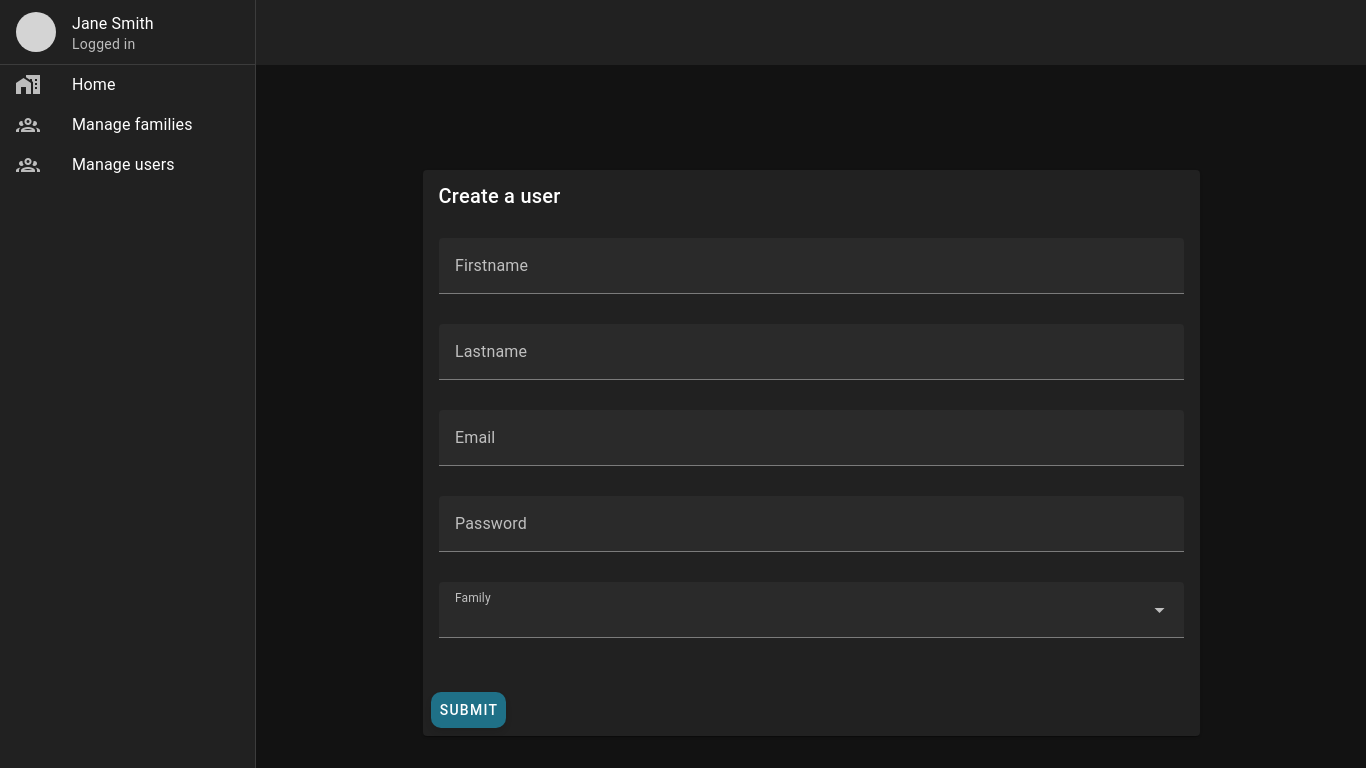
Create User Page › should display validation errors for empty fields
The image size is (1366, 768).
Click the submit button.
click(469, 710)  # box [431,692,507,728]
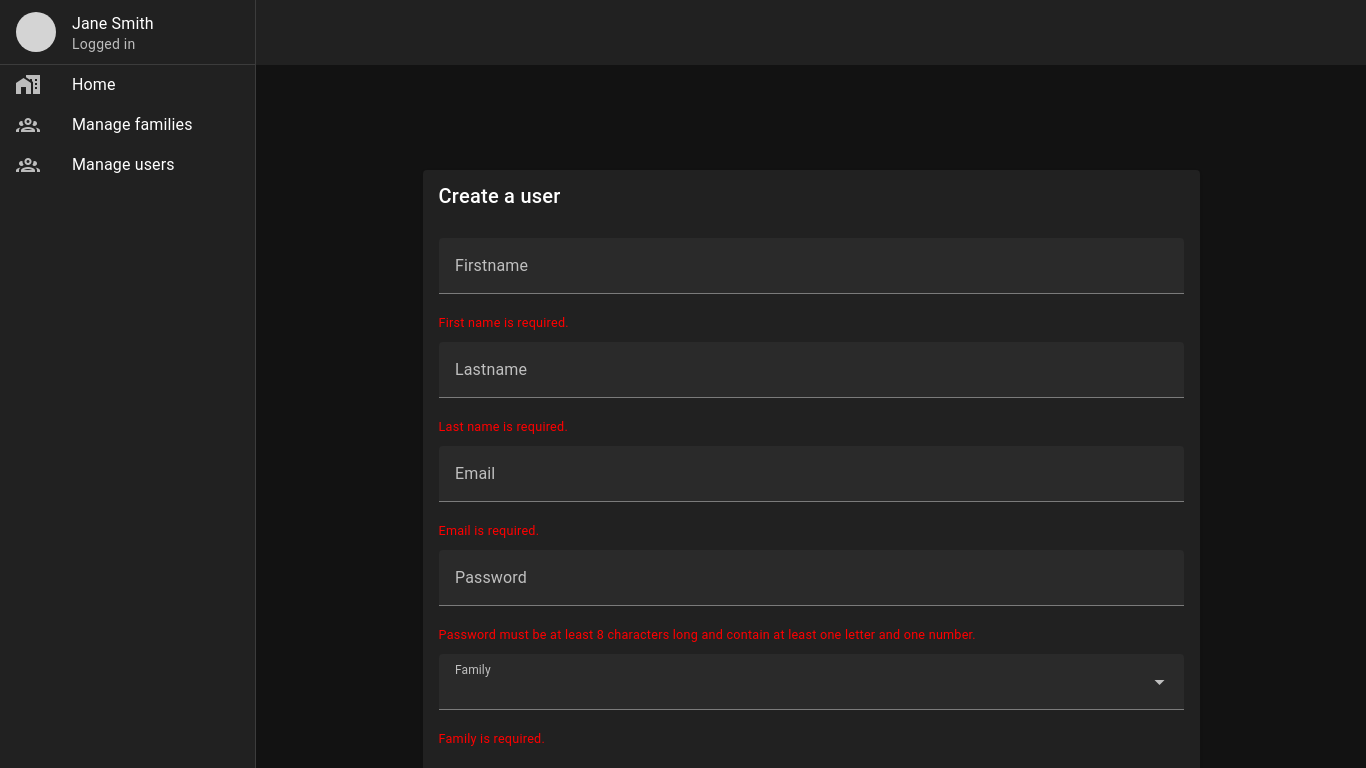
Check: the text "First name is required." is shown, box [438,315,569,330]
Check: the text "Last name is required." is shown, box [438,419,568,434]
Check: the text "Email is required." is shown, box [438,523,539,538]
